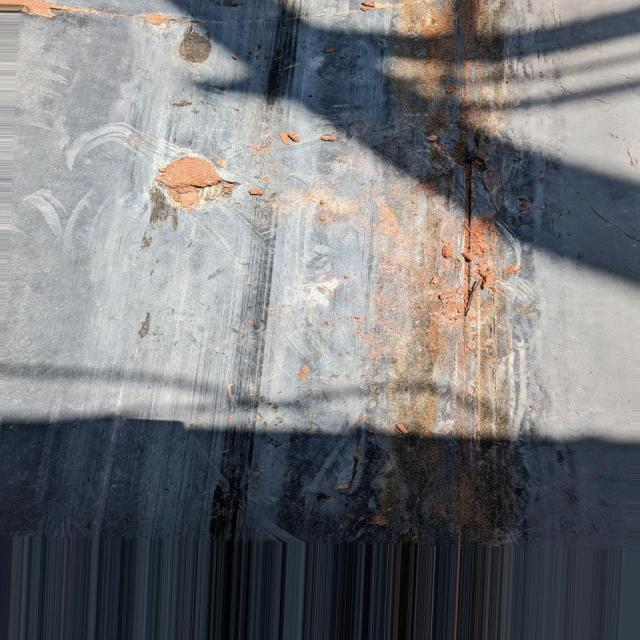impact damage: (401, 0, 504, 528)
